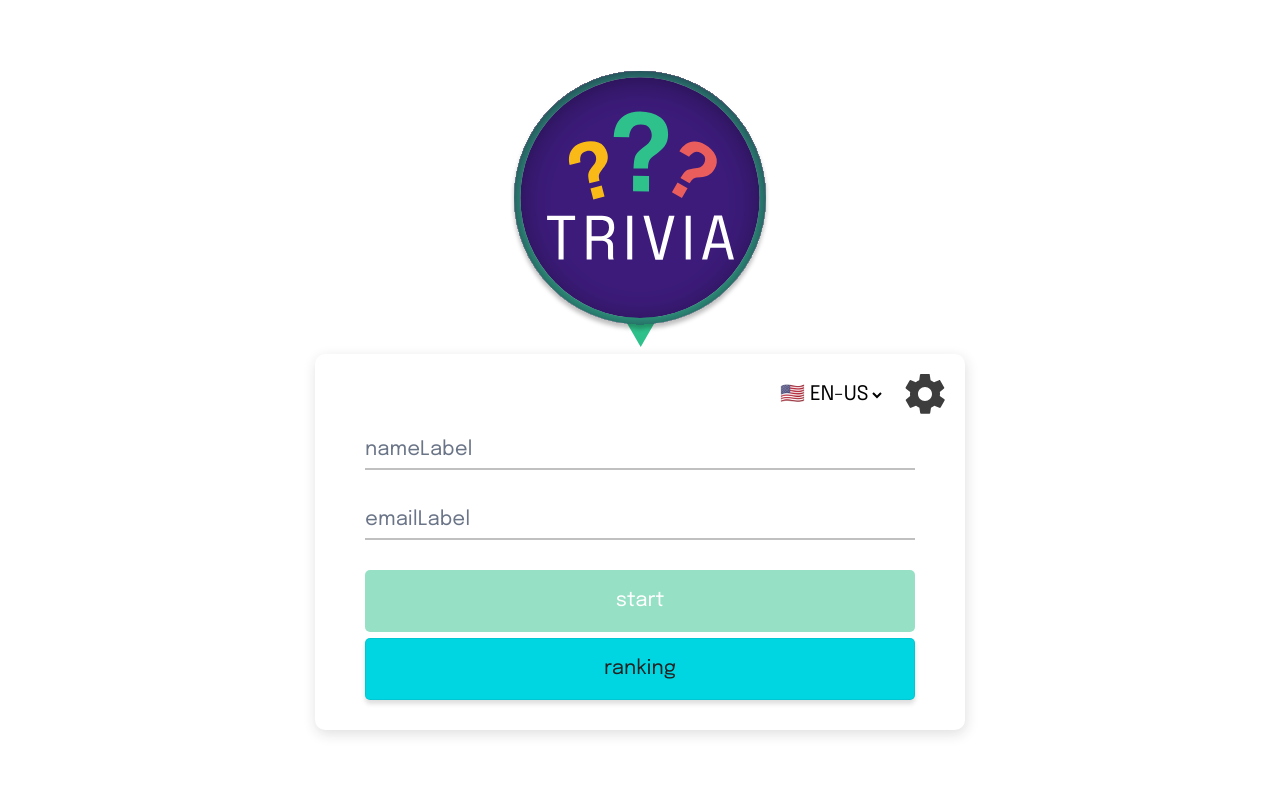
Test: Login page › Navigate to ranking page when clicking in the ranking button
The width and height of the screenshot is (1280, 800).
Step 1. Click the link with test id "login-page-button-ranking" → (640, 669), box [365, 638, 915, 700]
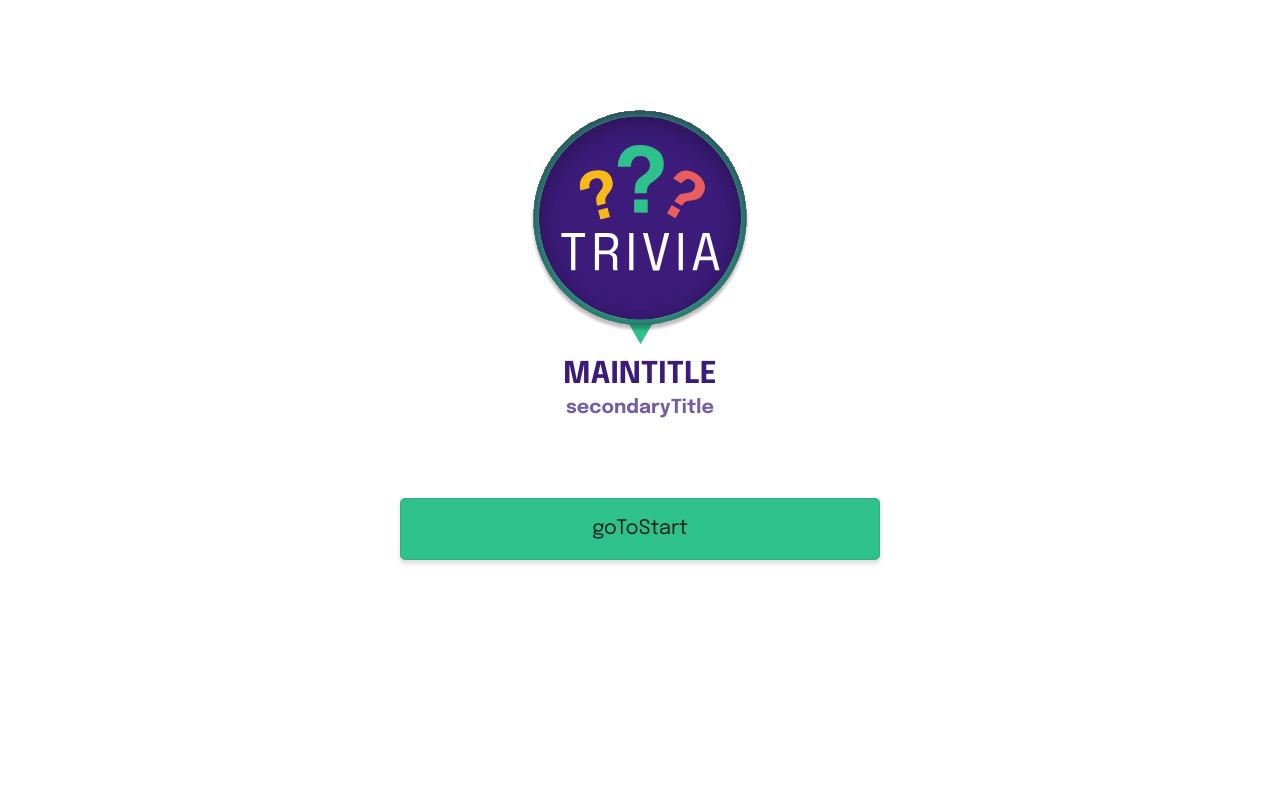
Now the element with test id "ranking-page" is shown
